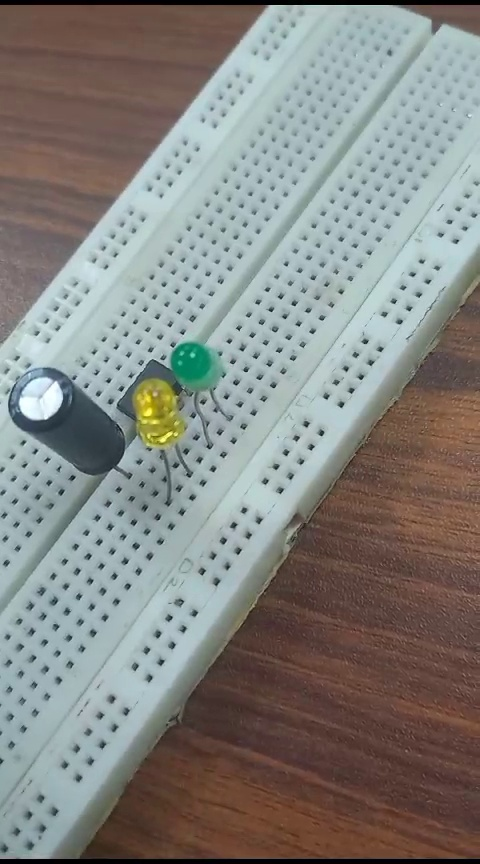IC: (140, 344, 175, 380)
LED: (136, 381, 186, 495), (167, 337, 231, 425)
capacitor: (8, 360, 127, 492)
